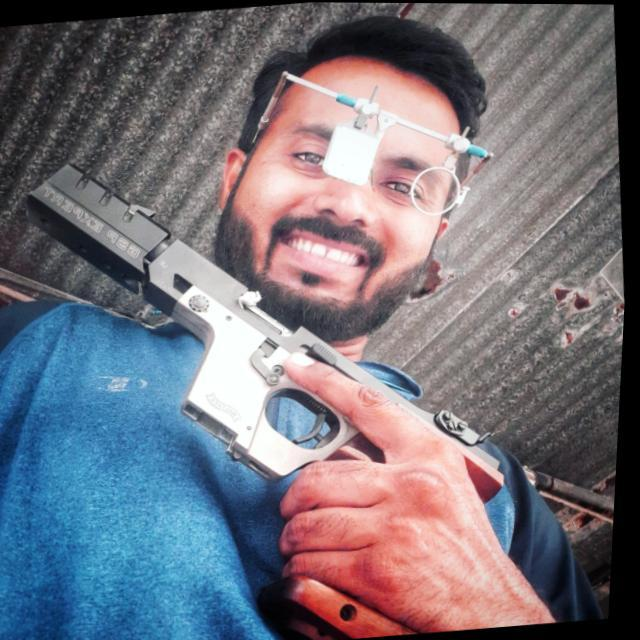weapon: (0, 117, 543, 640)
